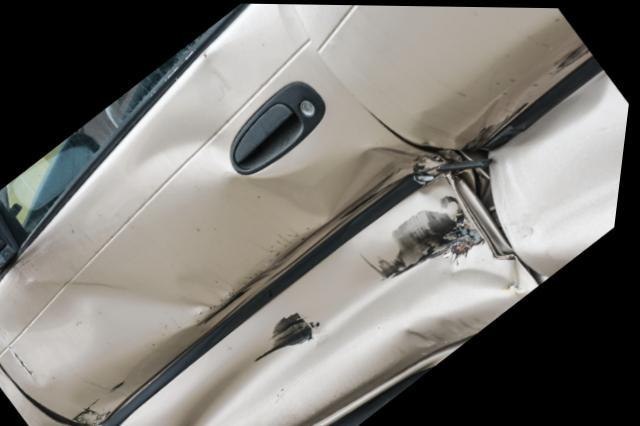dent: (0, 39, 537, 426), (418, 16, 631, 255)
